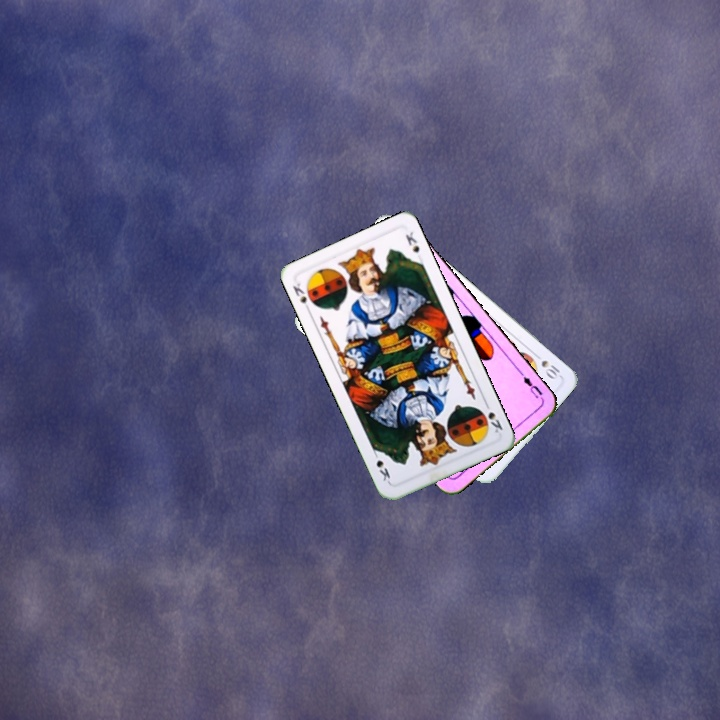EU: (516, 368, 546, 403)
S10: (530, 349, 565, 382)
SK: (480, 397, 505, 435), (289, 279, 313, 315)
